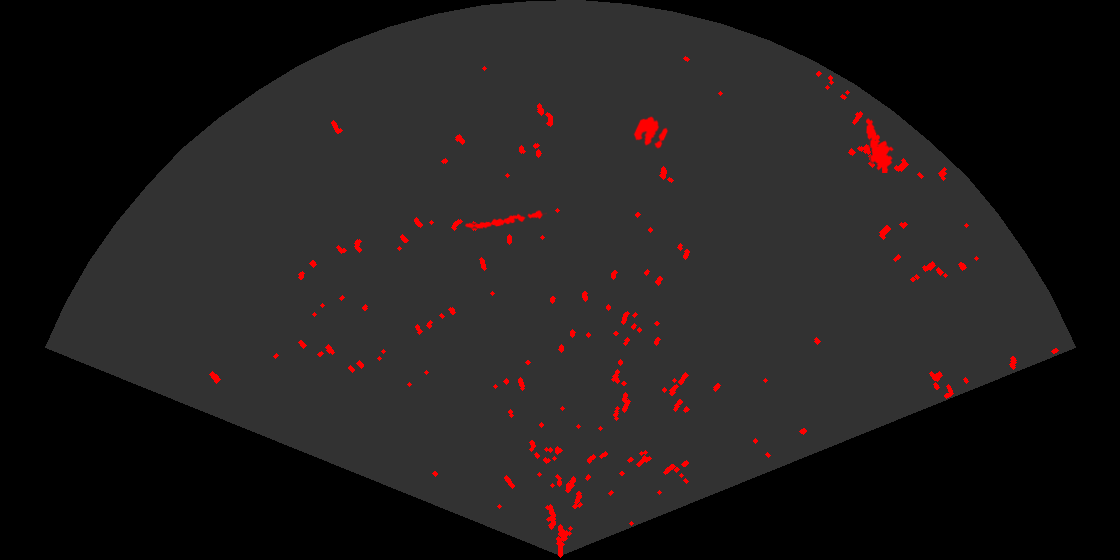ball: (632, 115, 670, 150)
chain: (463, 209, 547, 231)
frogman: (864, 117, 896, 173)
